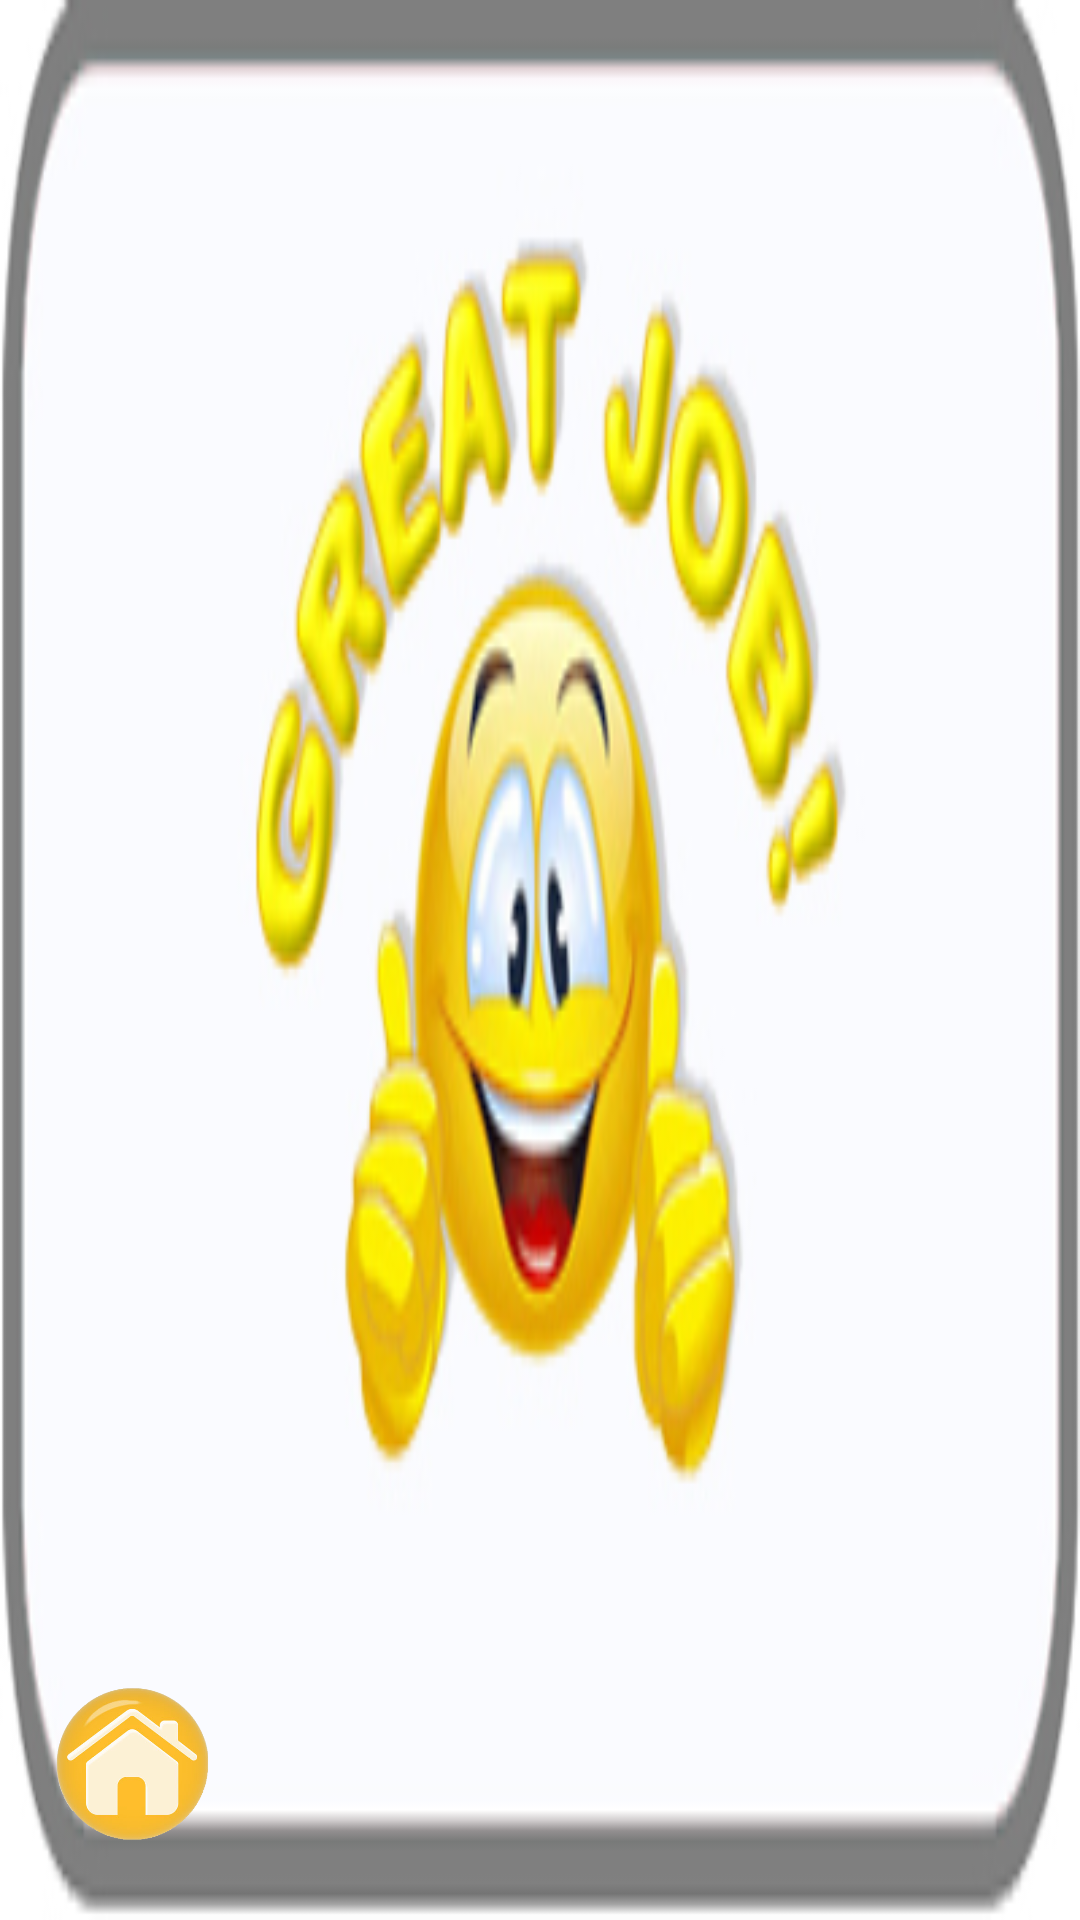

Screen size 1080 × 1920. Icon name, then its center in pixels as [x,y]:
home: [135,1770]
